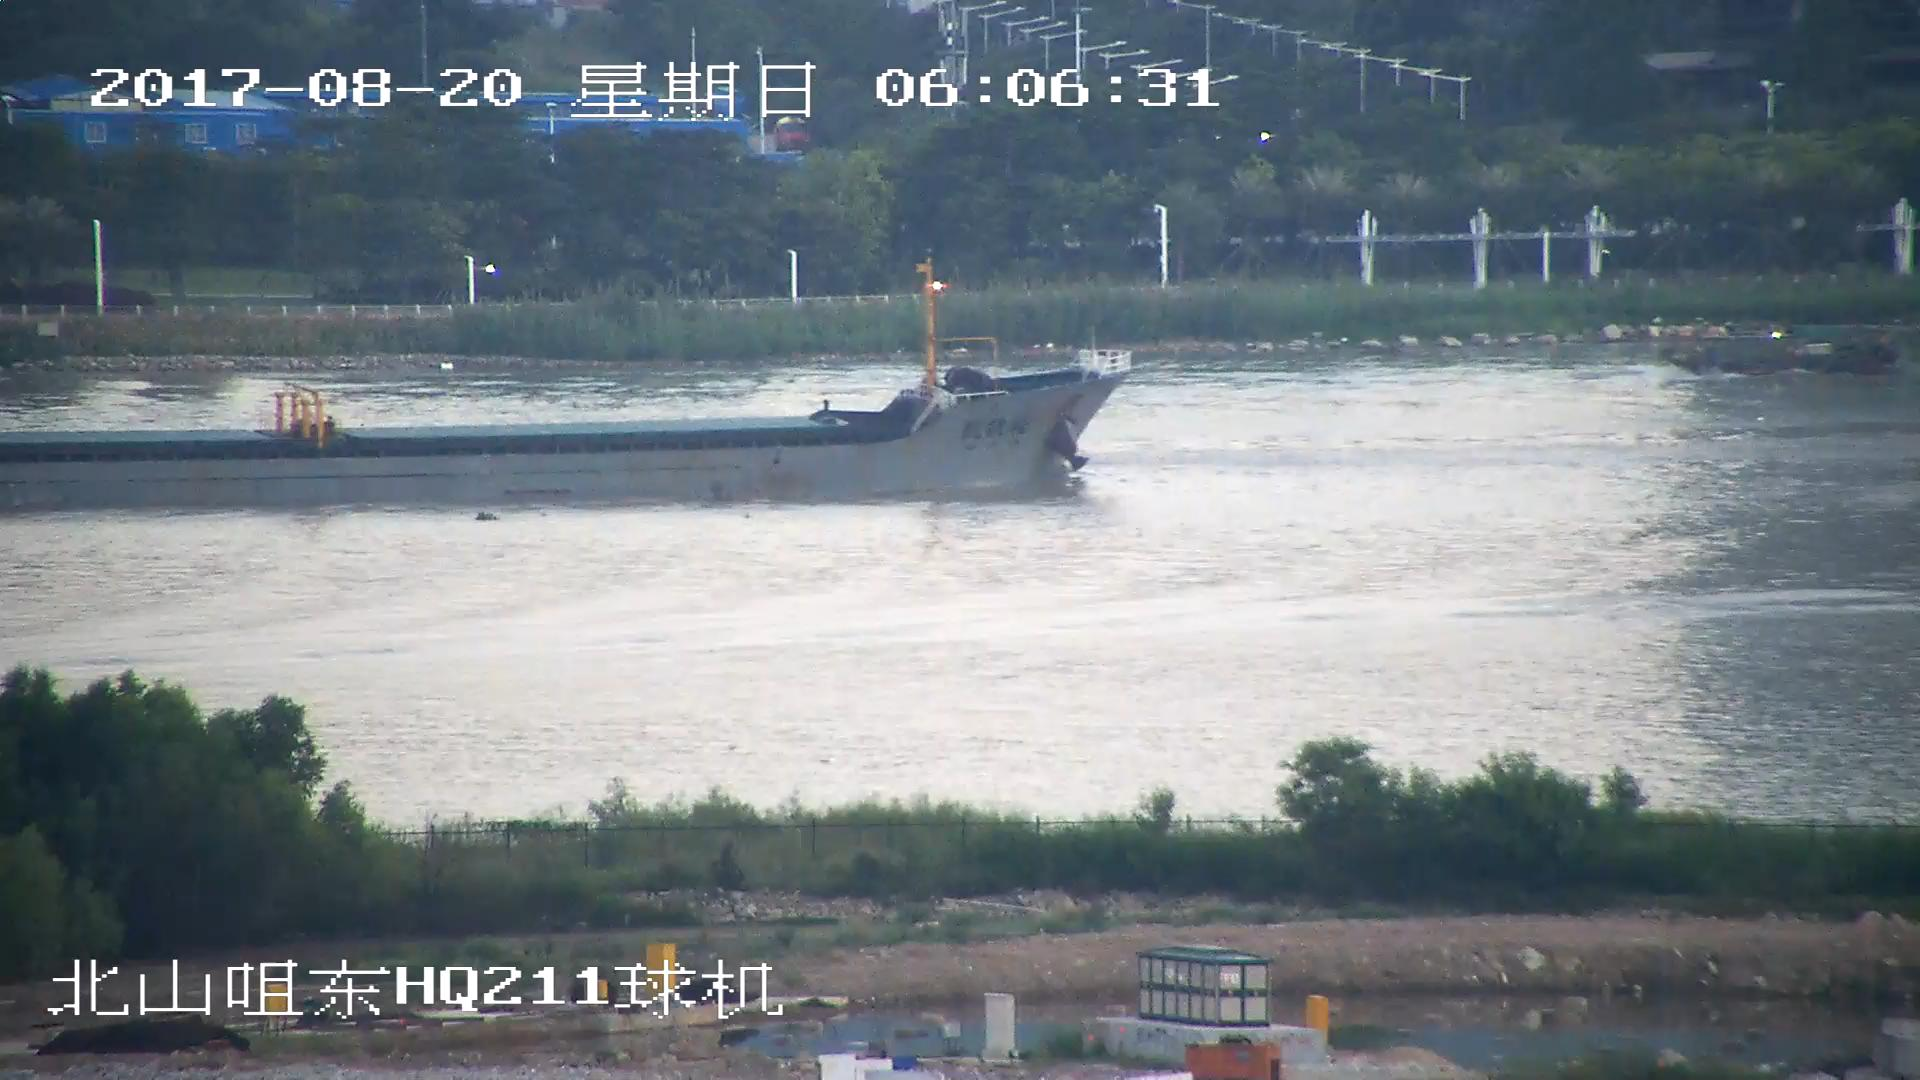general cargo ship: (1, 286, 1127, 504)
